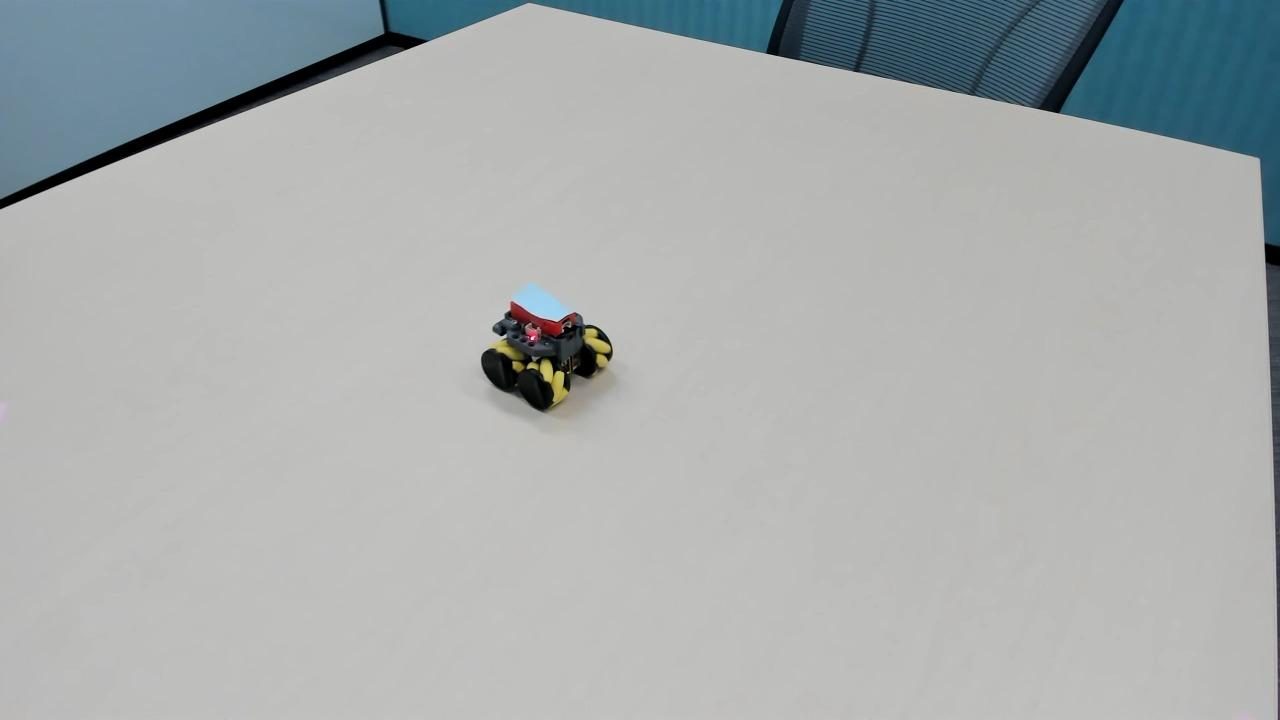B-Robot: (460, 268, 624, 432)
